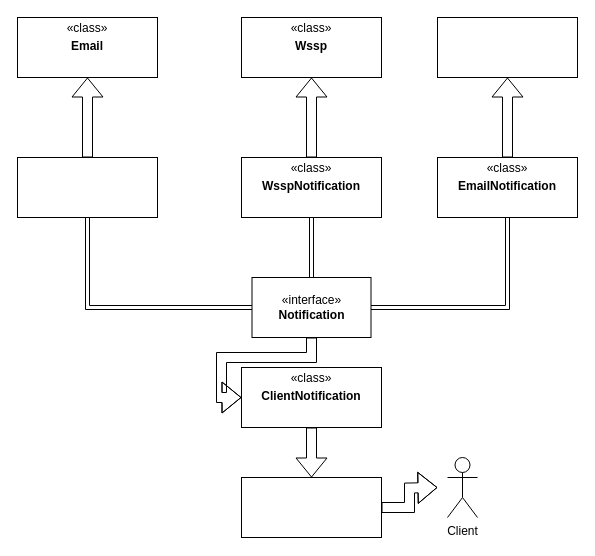
Image size: 595x556. Some labels were removed from this diagram. The shapes that lost their labels are listed below. From the top down, each one's centre as x and y in pixels, then its label:
At point (507, 47): "«class» Sms".
At point (87, 187): "«class» SmsNotification".
At point (311, 507): "«class» Main".
